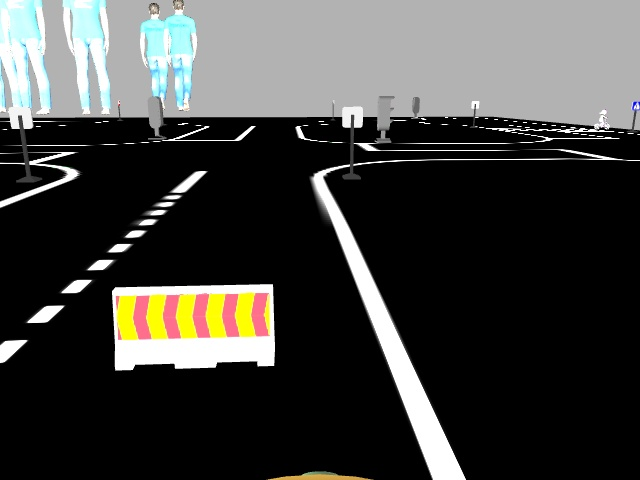ClosedRoadStand: (113, 286, 273, 362)
